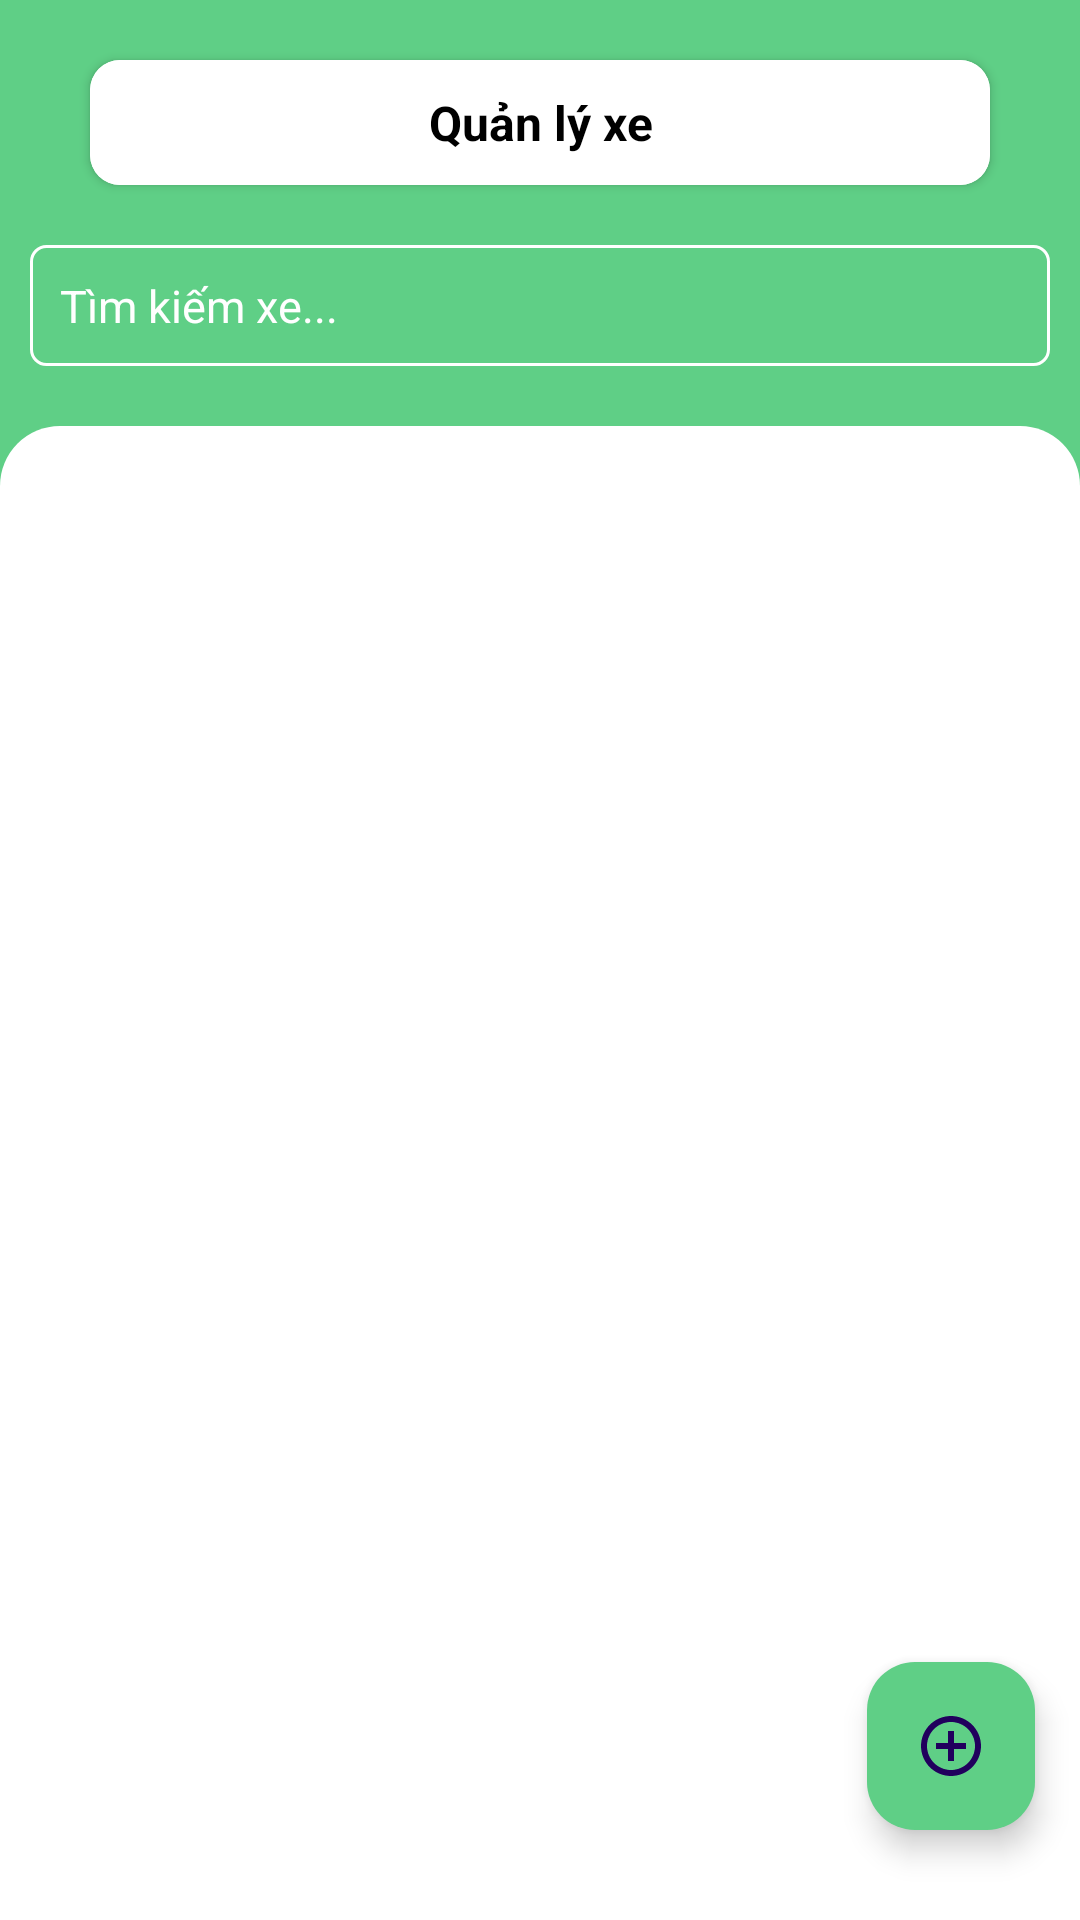

Named icons in this screenshot (1080*1920) and their bounding boxes, (x1, y1, x2, y2):
addbuttonwhite: (867, 1662, 1035, 1830)
